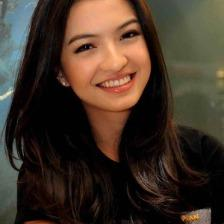Non hijab: (0, 0, 158, 224), (141, 60, 216, 214)
